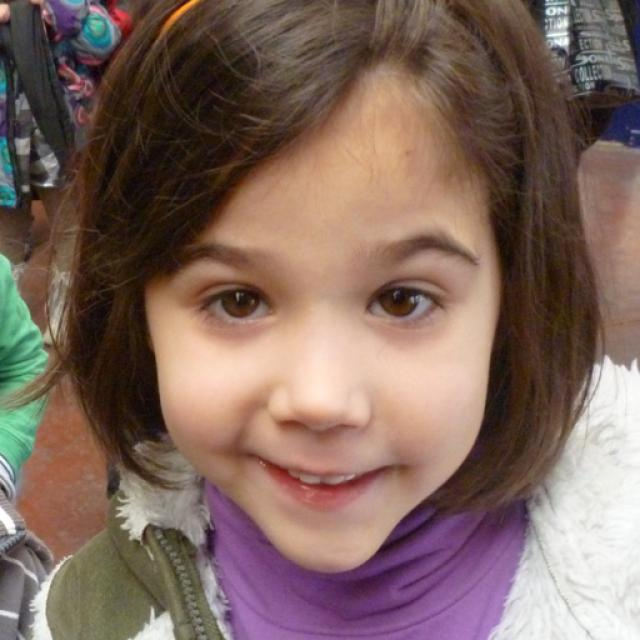happy: (143, 120, 498, 572)
